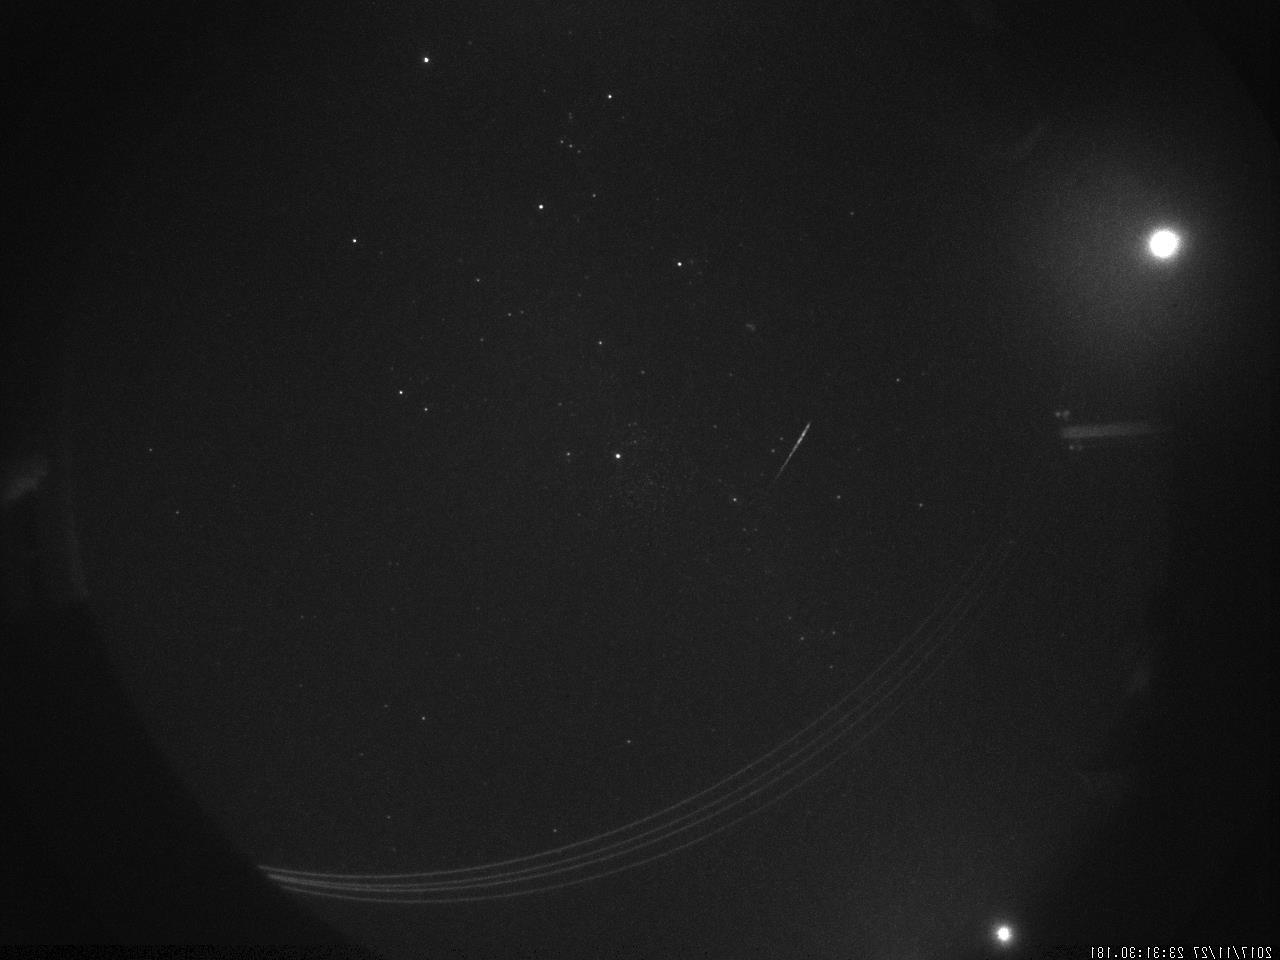meteor: (764, 413, 822, 487)
